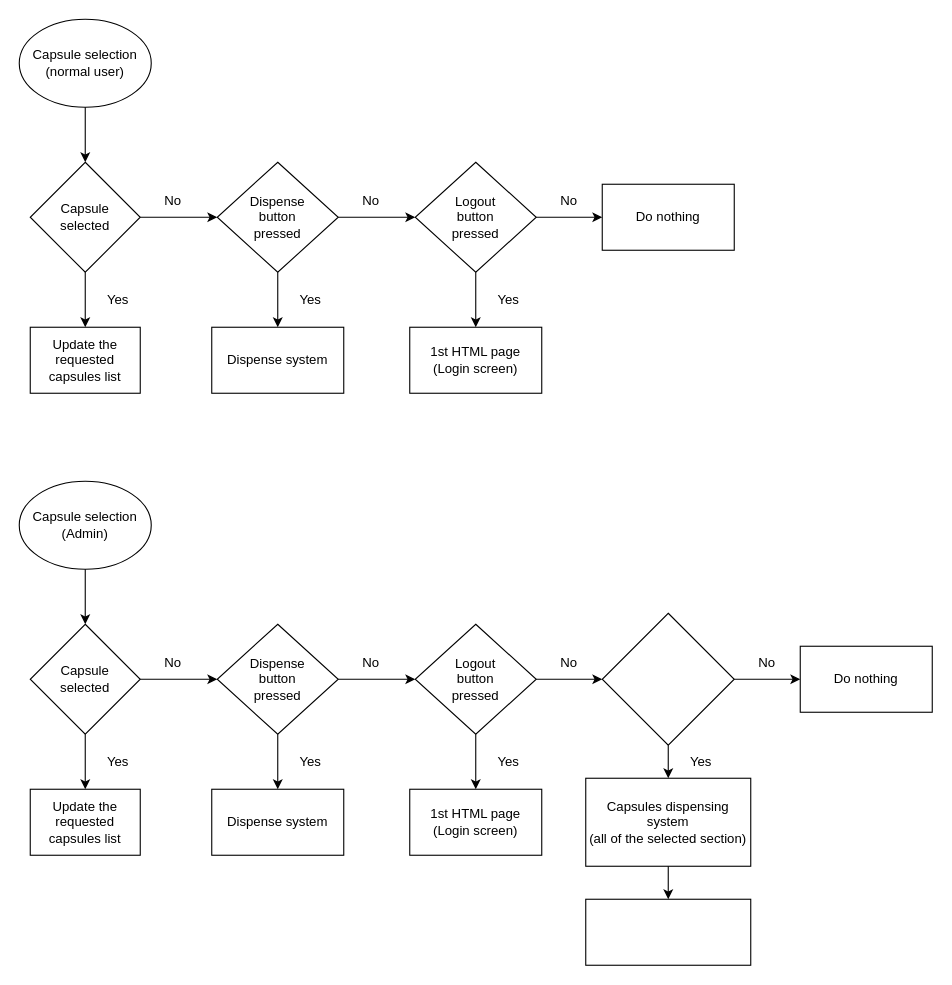
This 952x985 diagram has some shape labels left out. The centre of each missing label's shape, as x and y in pixels:
"Change coffee capsules variety" goes at [667,678].
"Storage system (Admin - Variety change)" goes at [668,931].
